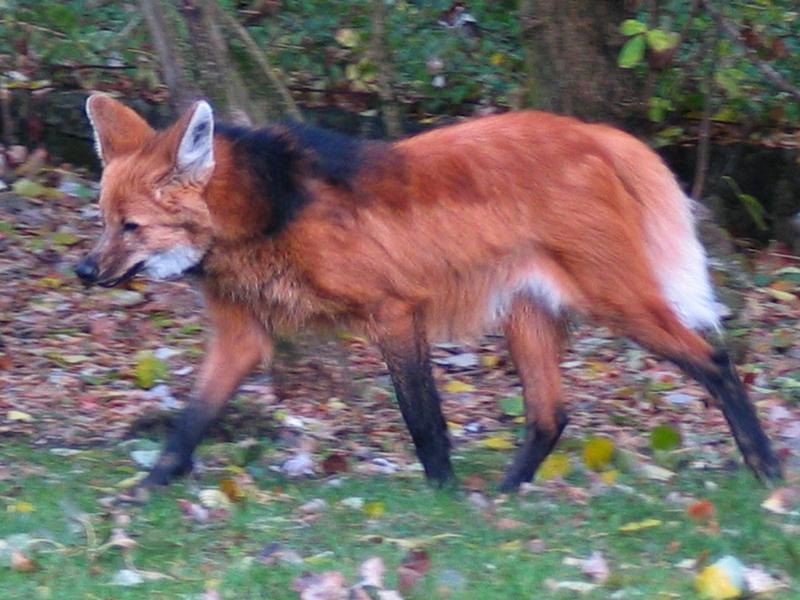LoboGuara: (71, 90, 788, 501)
